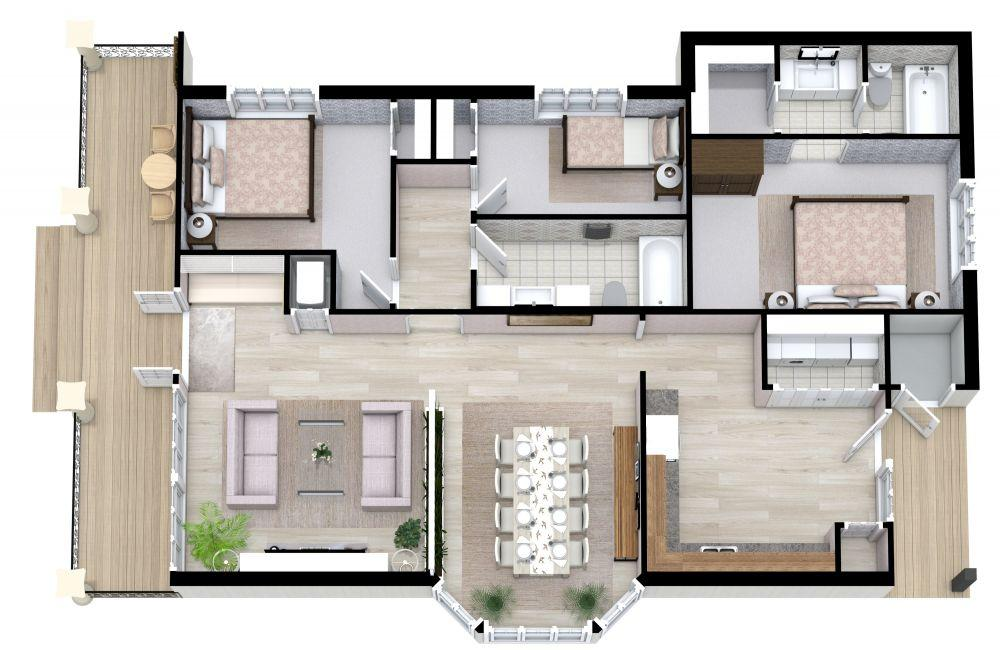room: (174, 309, 643, 572), (642, 315, 888, 575), (688, 135, 968, 313), (181, 91, 394, 252), (686, 34, 968, 134), (474, 94, 685, 216), (474, 216, 690, 309)
